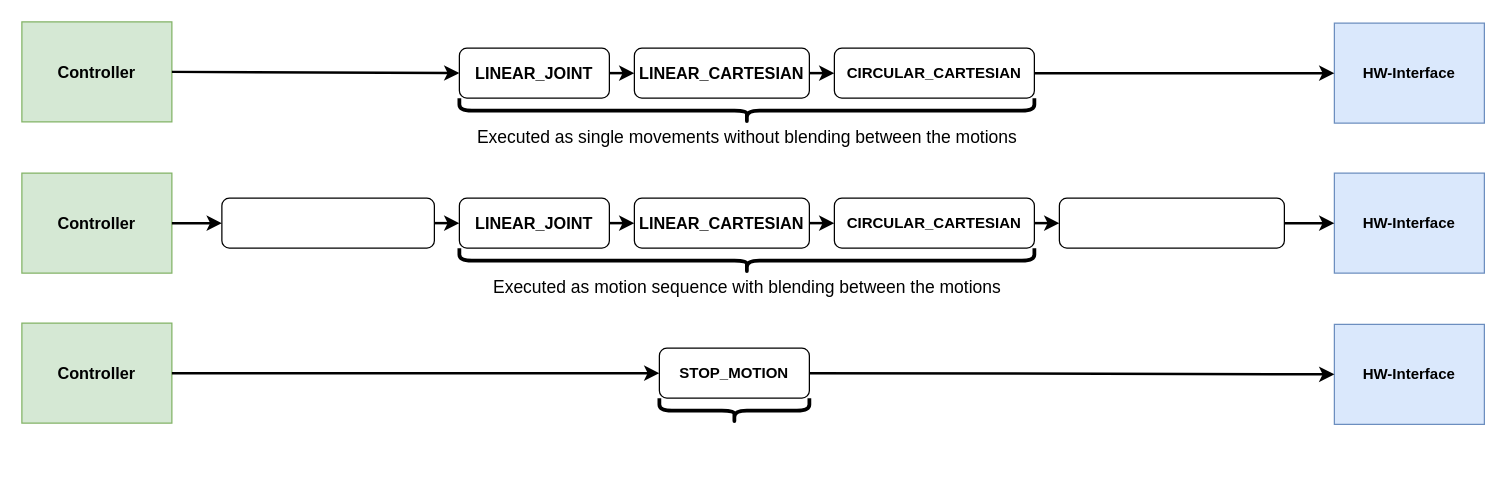
Image size: 1506x478. Some labels were removed from this diagram. Each missing label, with the centre of its shape:
MOTION_SEQUENCE_END: point 327,222
MOTION_SEQUENCE_START: point 1171,222
Stops motion and discards all primitives in the queue: point 734,410
